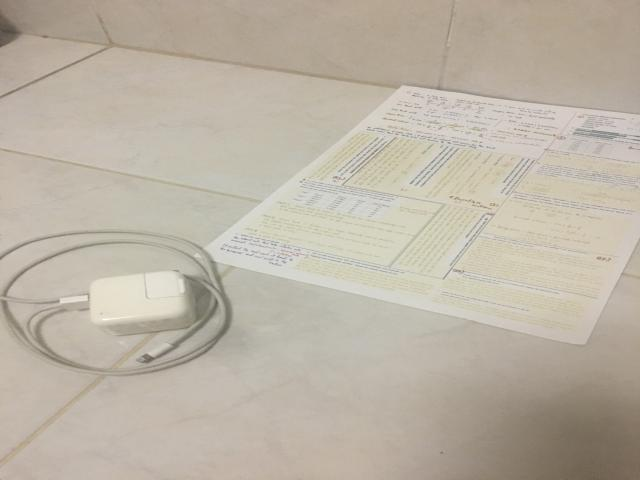paper: (207, 86, 638, 344)
wire: (0, 230, 232, 376)
